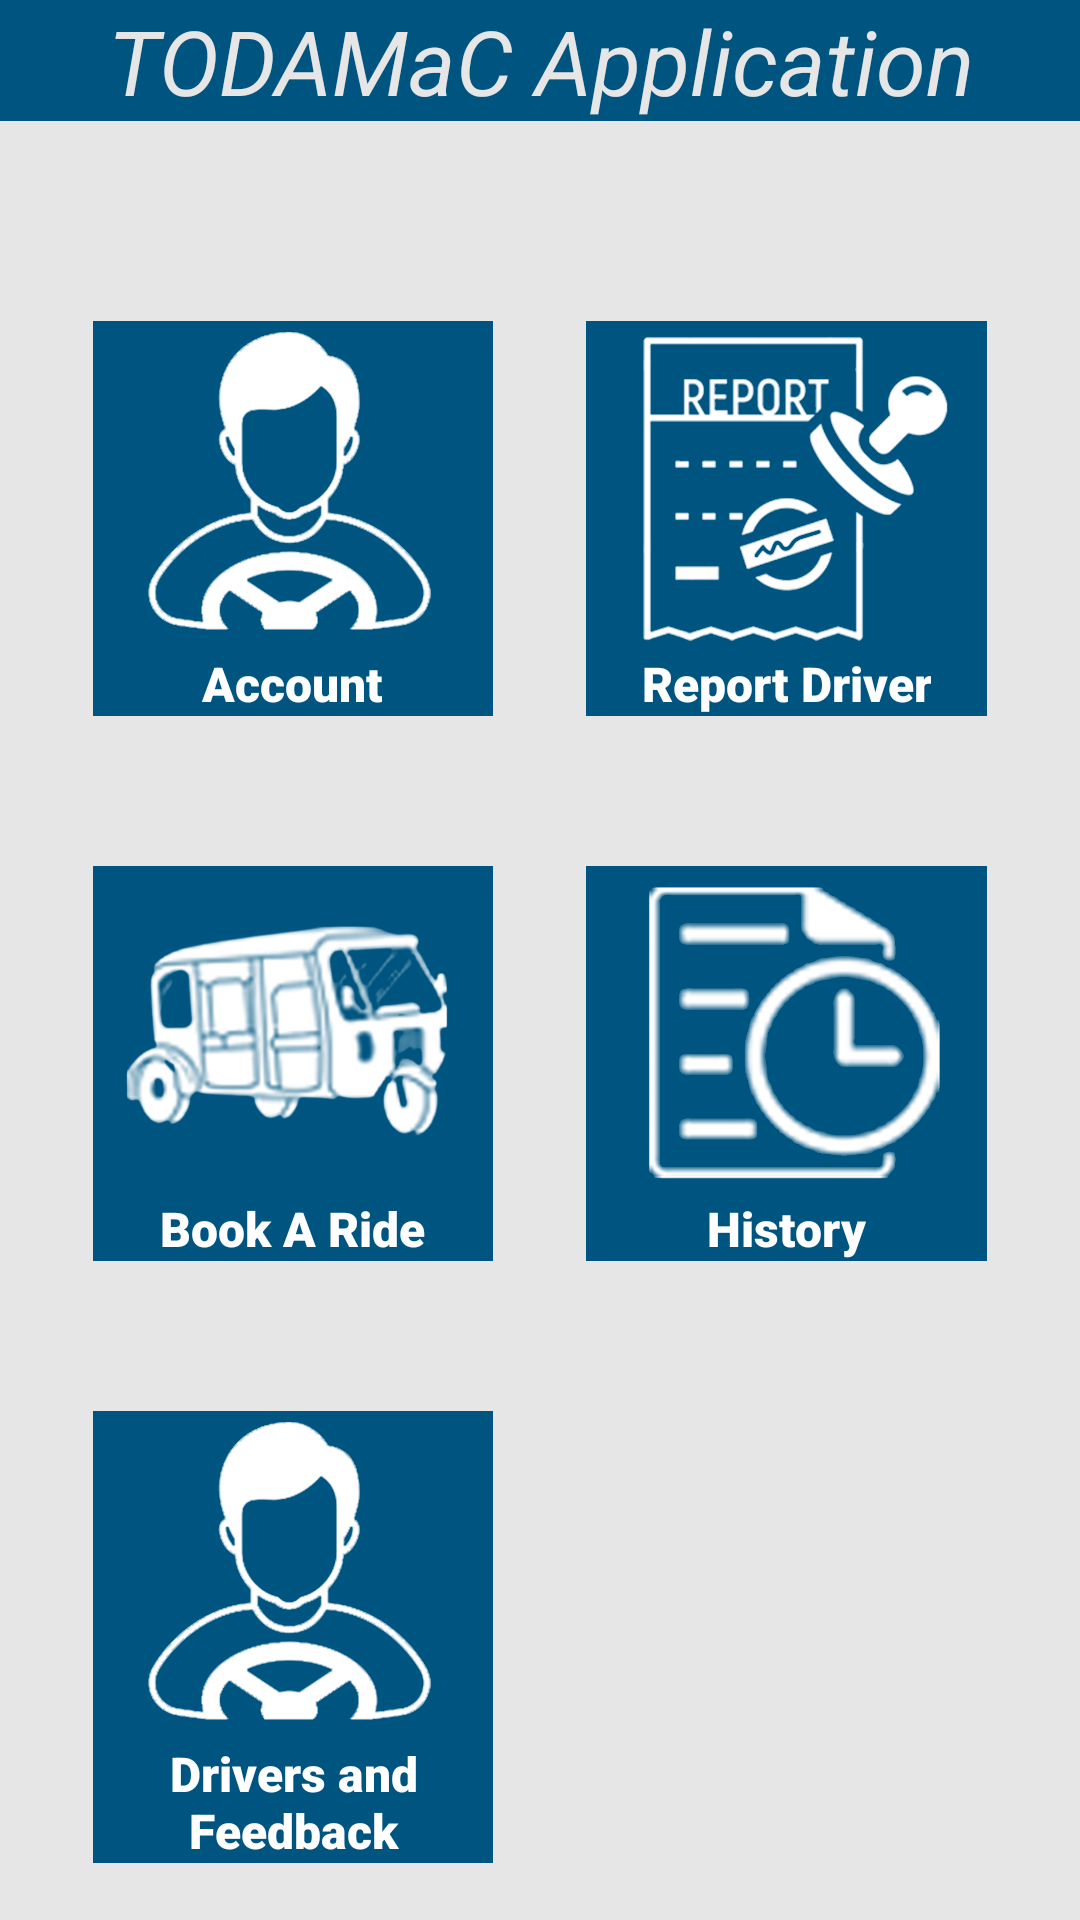

Icons on this 1080*1920 Android screen, each with its box as (x1, y1, x2, y2):
seedriver: (148, 332, 431, 630), (148, 1422, 431, 1720)
